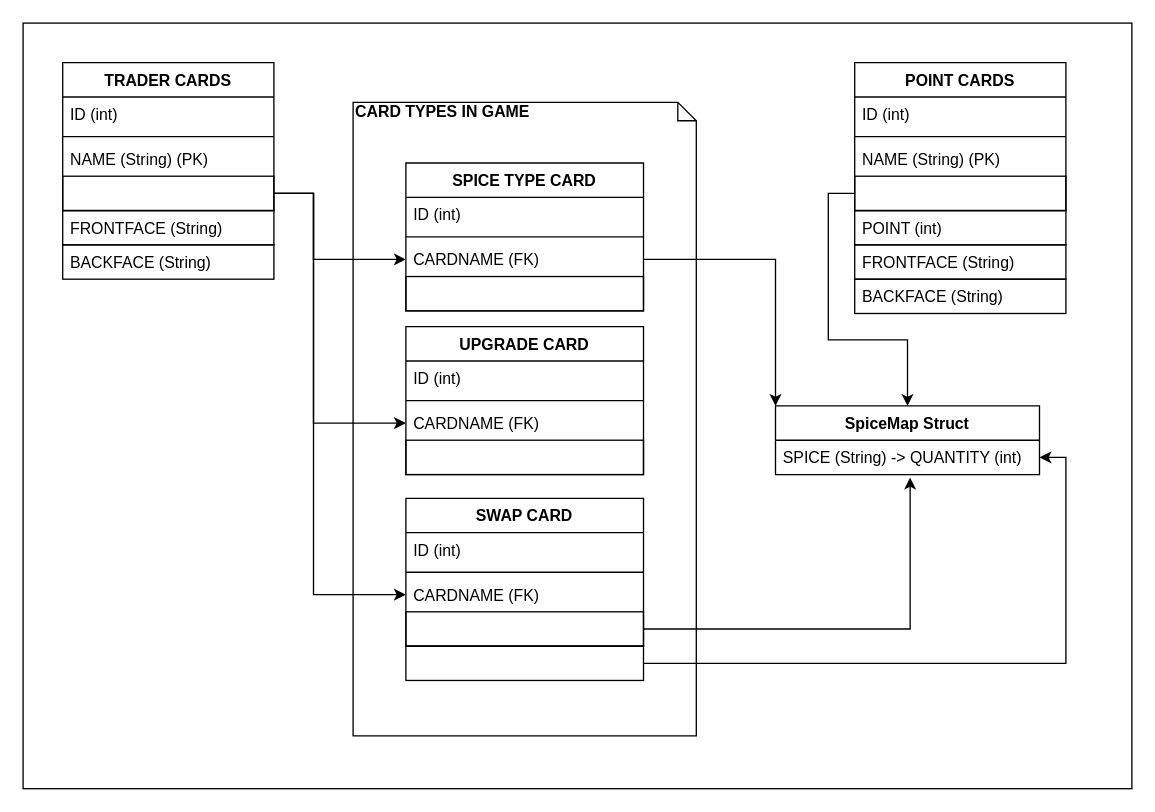
This 1155x812 diagram has some shape labels left out. The shapes that lost their labels are listed below. From the top down, each one's centre as x and y in pixels, then its label:
At (x=167, y=193): "CARDNAME (PK)".
At (x=959, y=193): "COST (array contains map)".
At (x=524, y=293): "Spices (array cointants map)".
At (x=524, y=457): "Level Up (int)".
At (x=524, y=628): "MIT (array contains map)".
At (x=524, y=662): "MIRE (array contains map)".
